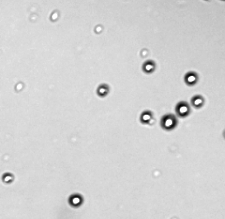Living Cell: (175, 100, 191, 117), (161, 113, 177, 130), (141, 58, 157, 74), (183, 70, 199, 86), (68, 192, 84, 208), (191, 92, 206, 108), (139, 110, 154, 124), (96, 82, 109, 98), (2, 171, 16, 184)
